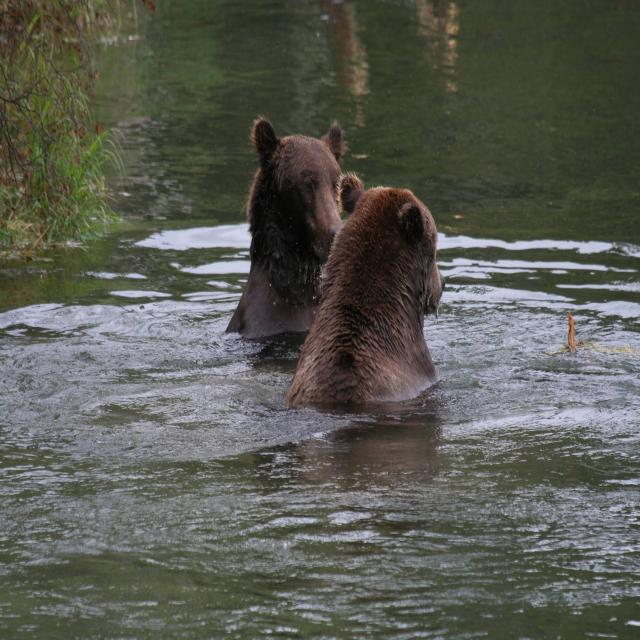bear face: (297, 177, 443, 407), (230, 115, 348, 336)
